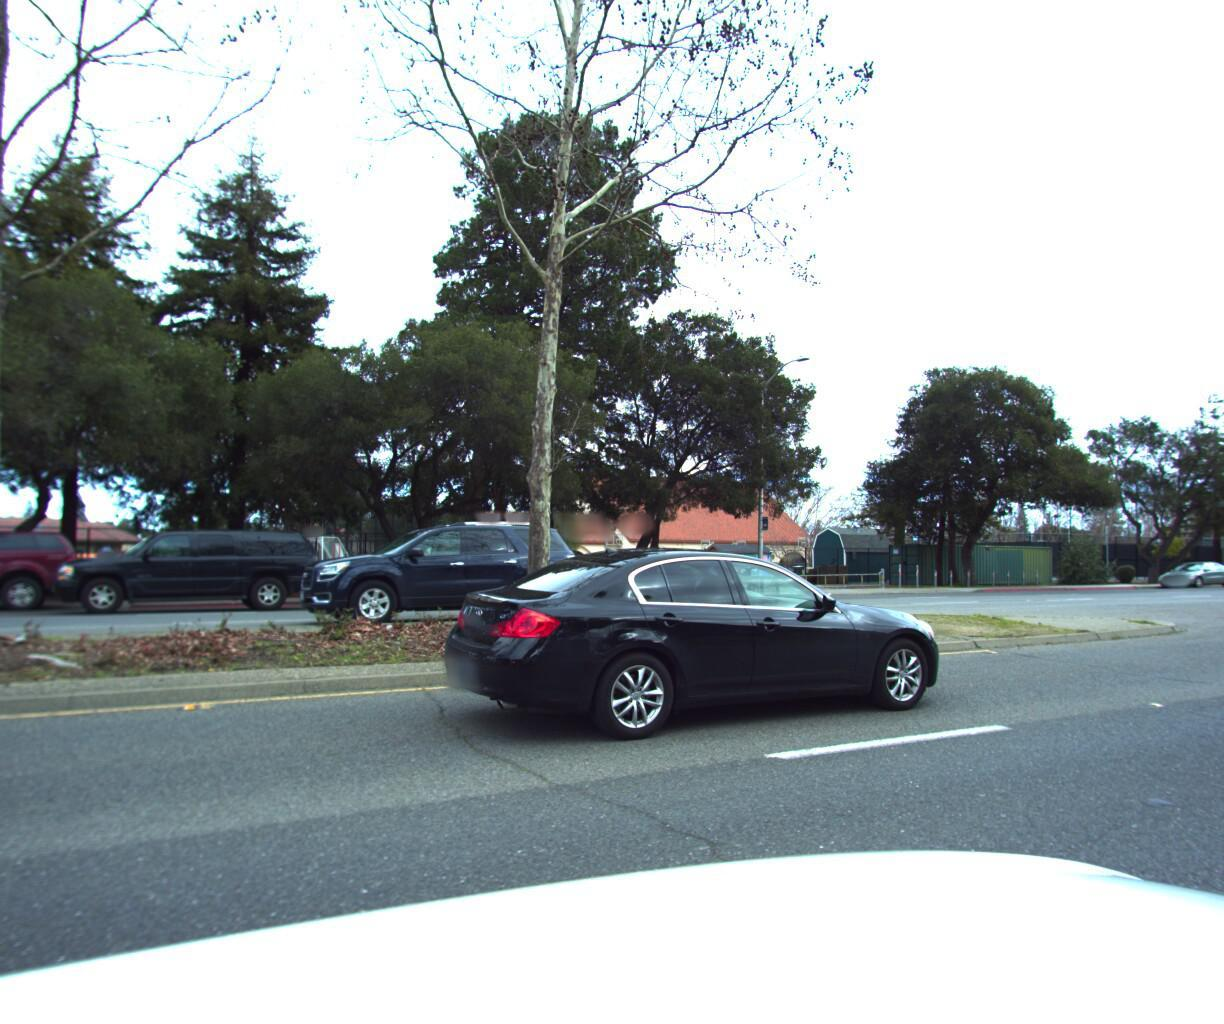car: (432, 547, 966, 761), (280, 513, 599, 635), (43, 523, 317, 618), (0, 525, 91, 624), (1145, 553, 1224, 582)
